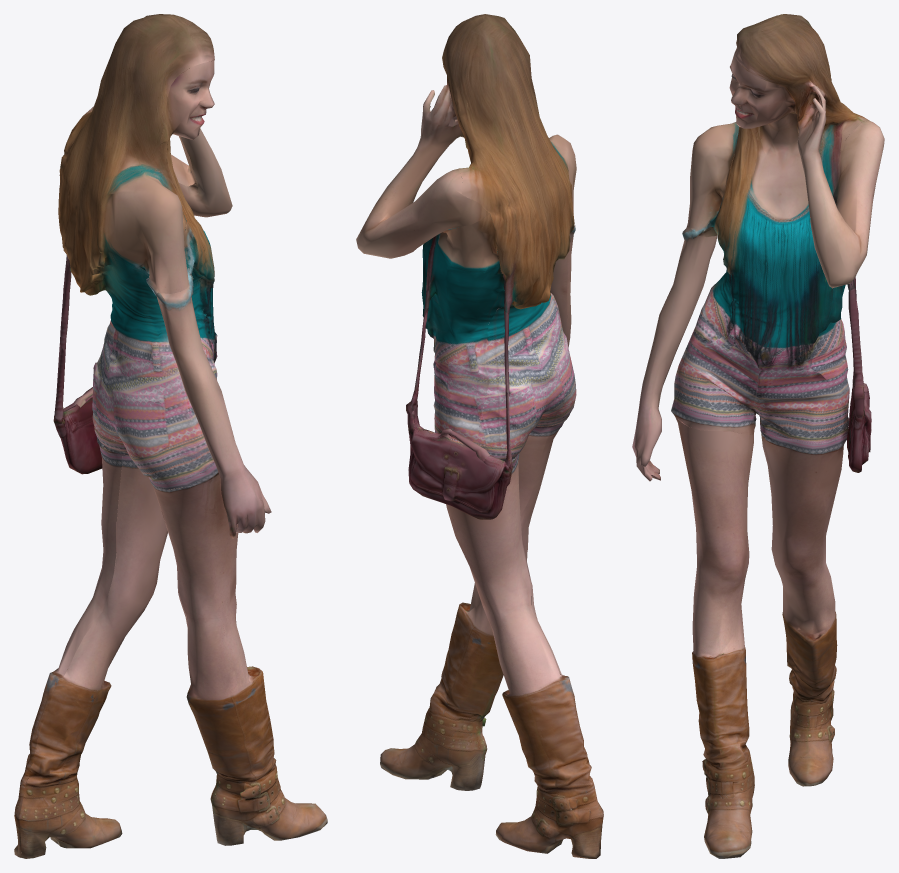
Rendered from people_girl_stoji.glb.
The picture shows the model from 3 angles, left to right: view 1: azimuth 30°, elevation 25°; view 2: azimuth 150°, elevation 25°; view 3: azimuth 270°, elevation 25°; orthographic projection. The views are drawn at different scales.
Bounding box in the file's own units: 0.5708 × 1.68 × 0.49.
Materials: 1 (1 with a texture image).
